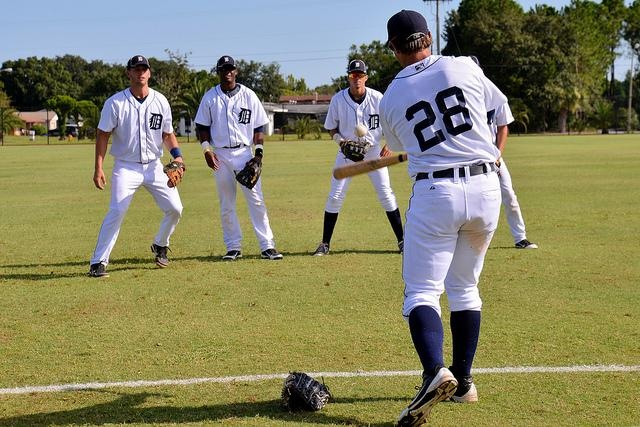person: (376, 6, 511, 424), (89, 53, 187, 277), (192, 55, 295, 265), (311, 57, 408, 264)
